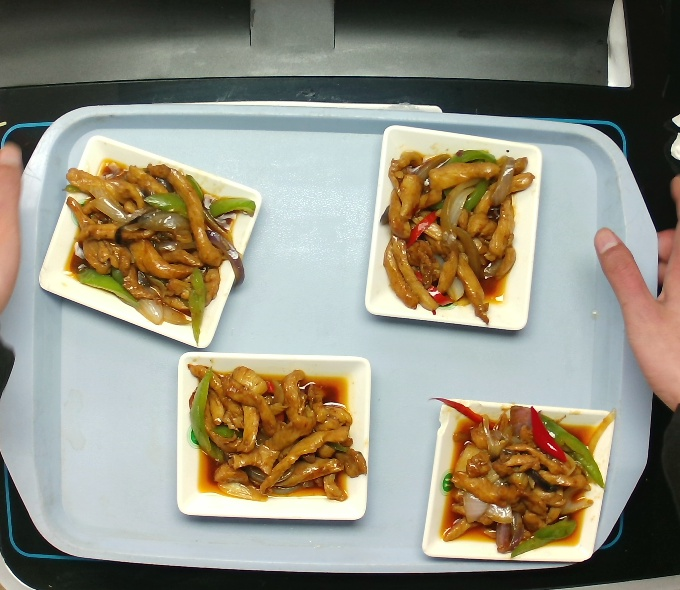wcq-YangCongChaoJiLiu: (56, 153, 262, 346), (425, 390, 620, 562), (373, 141, 540, 328), (184, 360, 370, 510)
